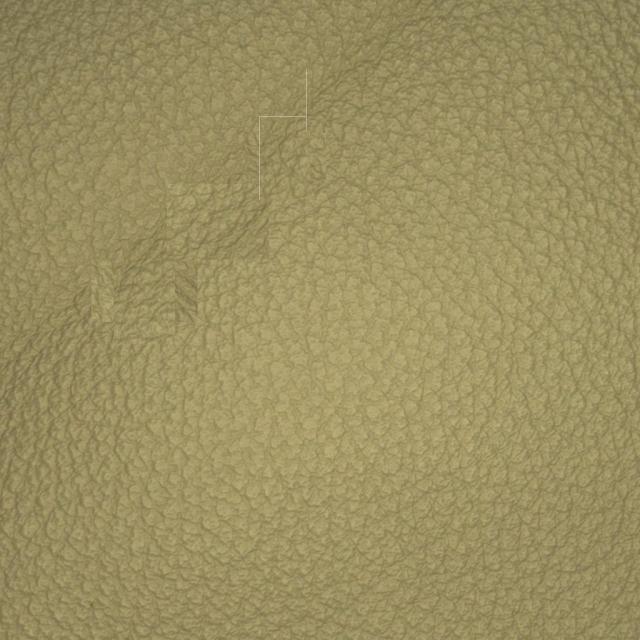Healed Injury: (14, 246, 148, 444), (160, 146, 280, 352), (250, 50, 360, 238)
